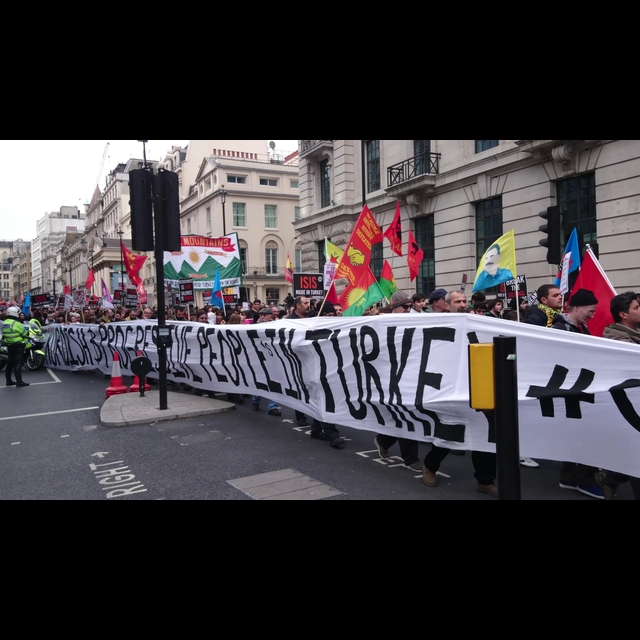APO: (485, 244, 504, 275)
PJAK: (344, 286, 370, 311)
